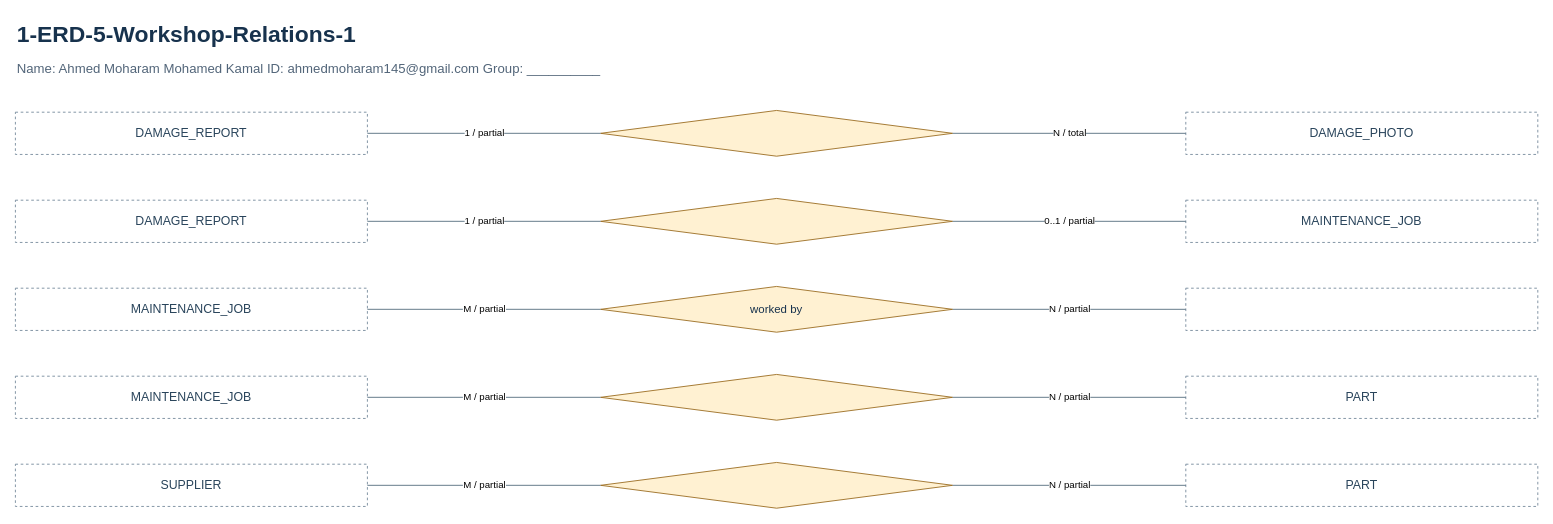
This 1553x524 diagram has some shape labels left out. Each missing label, with the box of its shape:
causes repair: (600, 198, 953, 244)
has photo: (600, 110, 953, 156)
MECHANIC: (1185, 287, 1538, 330)
supplies: (600, 462, 953, 508)
uses: (600, 374, 953, 420)
